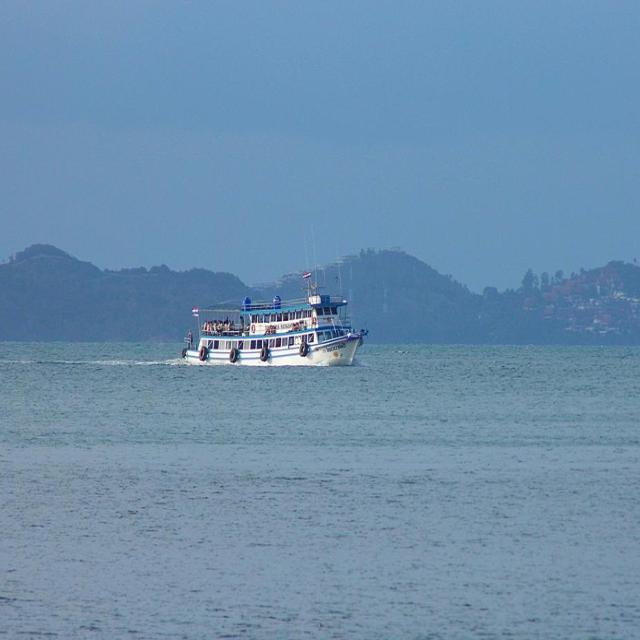fishing boat: (180, 278, 372, 374)
